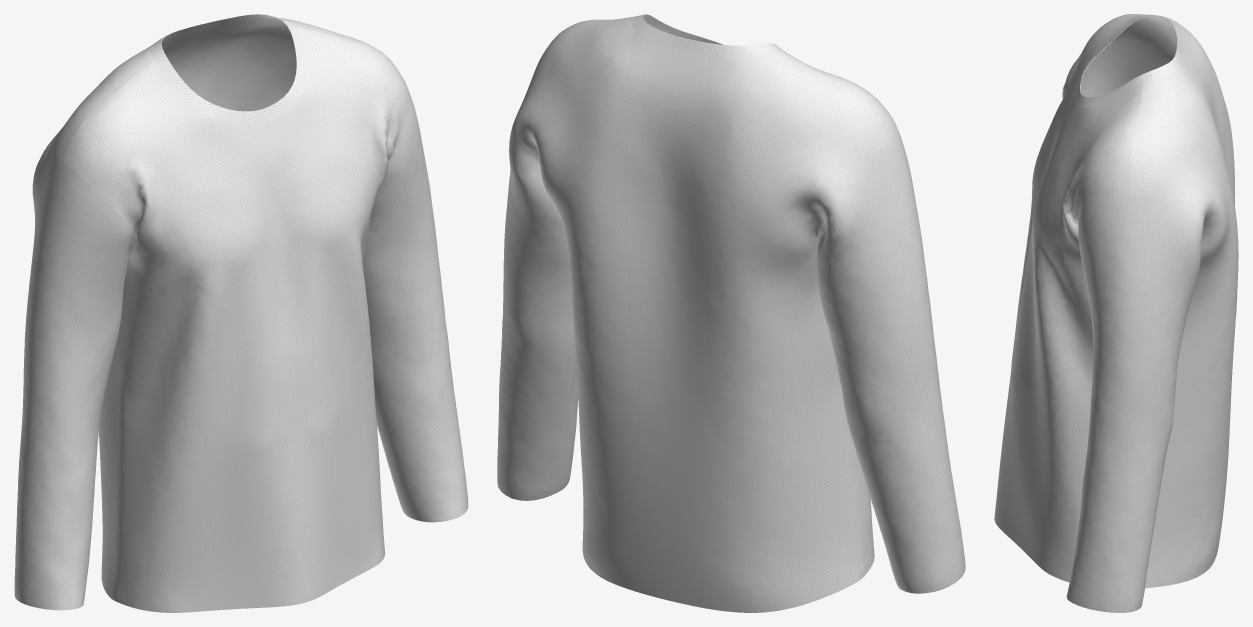
Rendered from sweatshirt.glb.
3 renders of one model, left to right at view 1: azimuth 30°, elevation 25°; view 2: azimuth 150°, elevation 25°; view 3: azimuth 270°, elevation 25°, orthographic. The views are drawn at different scales.
Parts seen in each view (by area): view 1: tshirt, neck; view 2: tshirt, neck; view 3: tshirt, neck.
Boxes of the visible parts, x1,y1,x2,y2 form: tshirt: [14, 17, 468, 612]; neck: [150, 14, 307, 124]; tshirt: [497, 16, 965, 612]; neck: [630, 14, 785, 58]; tshirt: [994, 14, 1238, 612]; neck: [1074, 15, 1183, 107].
Size of the model in its own units: 1.87 by 2.14 by 0.9538.
2 materials, 2 textured.
